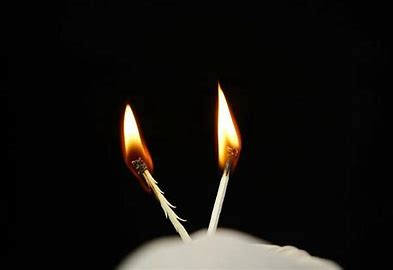Fire: (205, 79, 250, 169), (116, 98, 156, 180)
